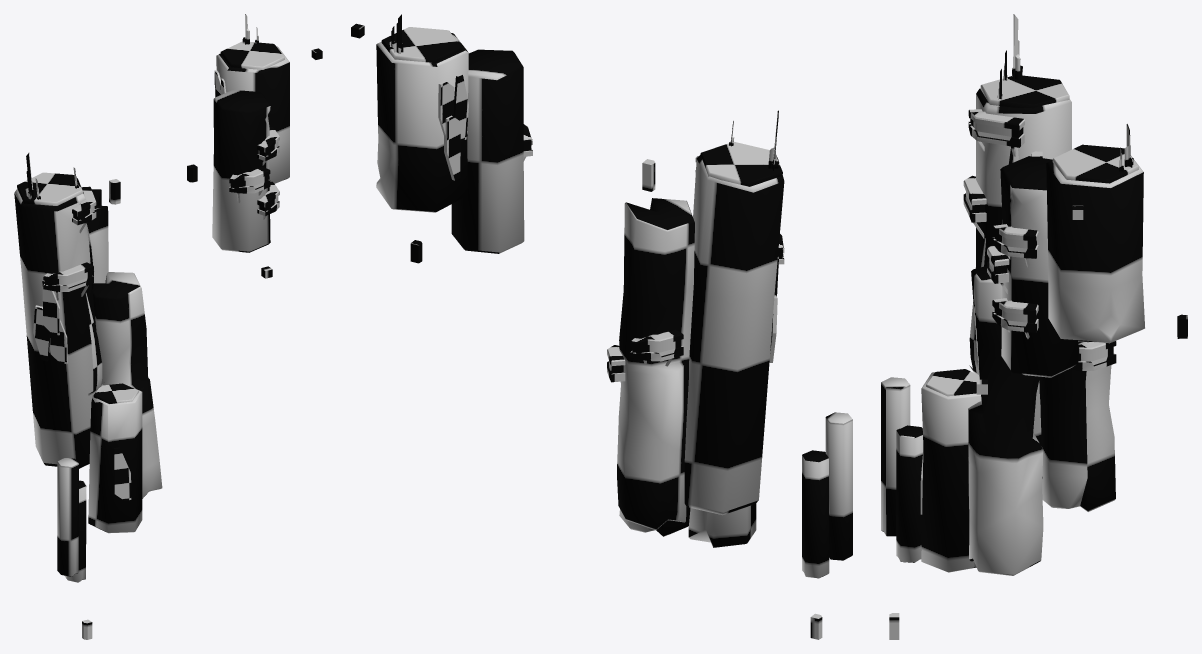
File: streuner_blockzone03.obj
3 views of the same model, side by side, from view 1: azimuth 30°, elevation 25°; view 2: azimuth 150°, elevation 25°; view 3: azimuth 270°, elevation 25° (orthographic). The views are drawn at different scales.
Parts seen in each view (by area): view 1: lowpoly_ingame; view 2: lowpoly_ingame; view 3: lowpoly_ingame.
Boxes of the visible parts, x1=… form: lowpoly_ingame: x1=14, y1=14, x2=322, y2=639; lowpoly_ingame: x1=351, y1=14, x2=852, y2=639; lowpoly_ingame: x1=881, y1=14, x2=1187, y2=639.
Size of the model in its own units: 695 by 1010 by 416.
1 material, 1 textured.
